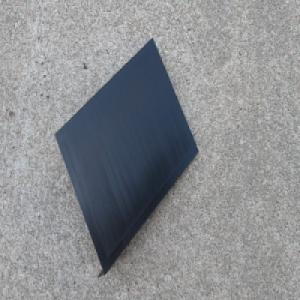PlasticPart: (54, 36, 199, 276)
